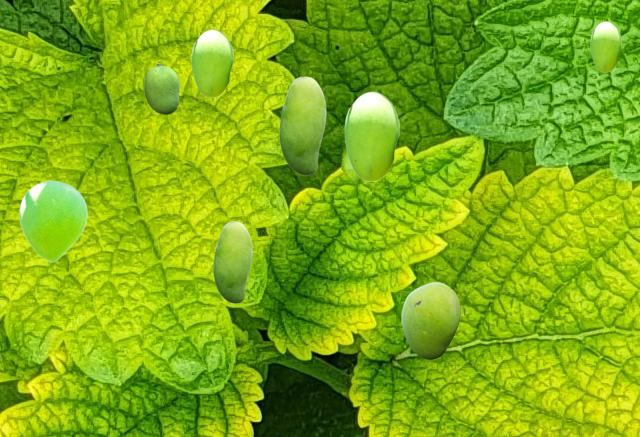green_mango: (19, 180, 86, 261), (344, 91, 398, 180), (279, 76, 325, 174), (401, 282, 459, 358), (213, 221, 251, 302), (191, 29, 232, 96), (144, 63, 178, 113), (590, 21, 620, 71), (341, 144, 359, 181)
